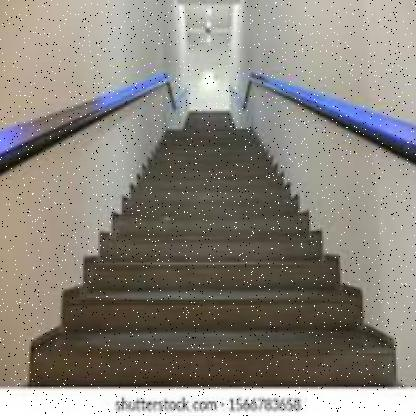stair_up: (48, 207, 377, 369)
